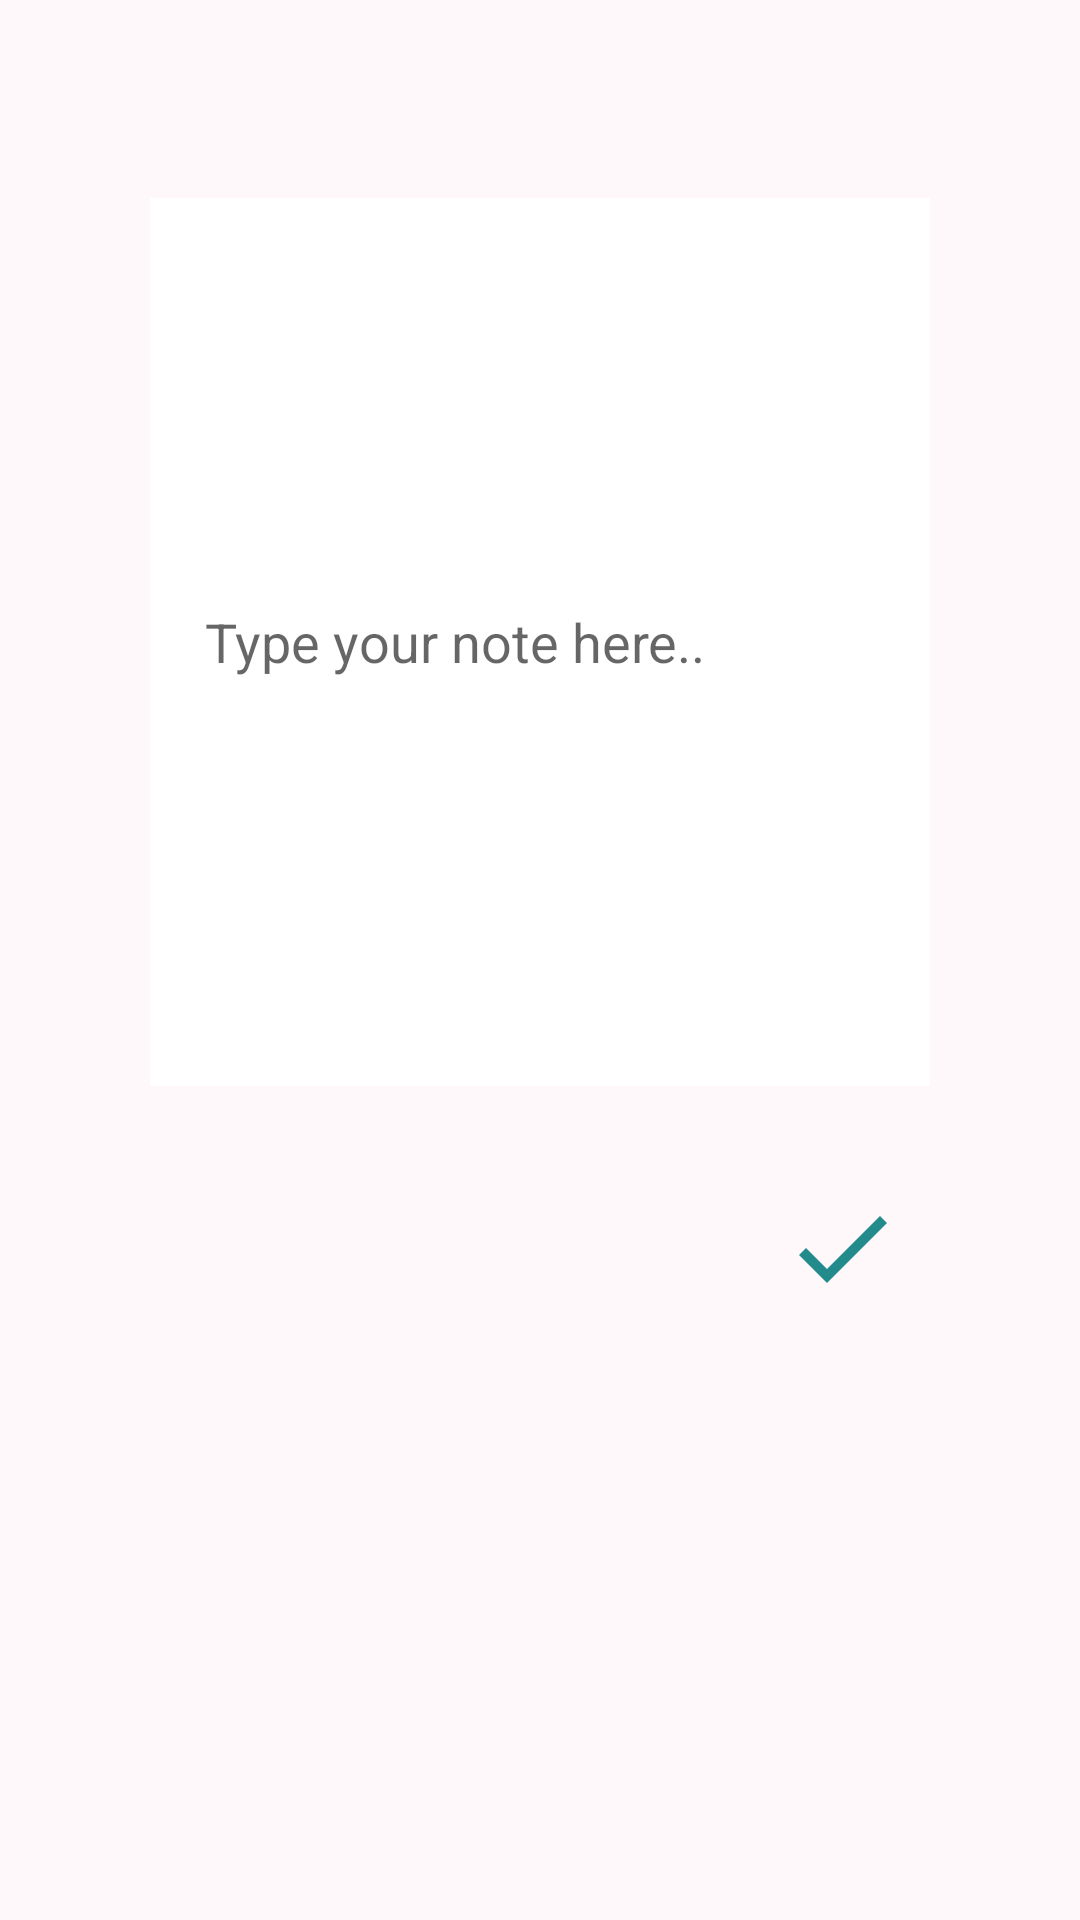

Icons on this 1080 x 1920 Android screen, each with its box as (x1, y1, x2, y2):
save note: (799, 1216, 887, 1283)
